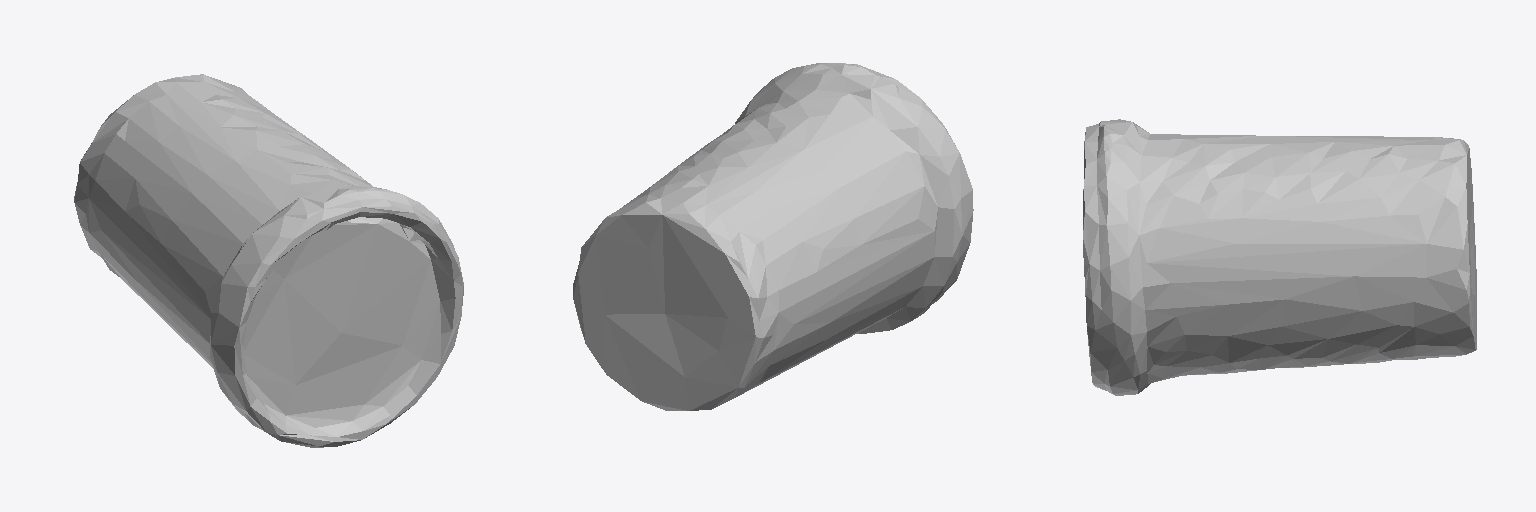
File: cup1.obj
The picture shows the model from 3 angles: view 1: azimuth 30°, elevation 25°; view 2: azimuth 150°, elevation 25°; view 3: azimuth 270°, elevation 25°; orthographic projection.
Parts seen in each view (by area): view 1: BakingVanilla_800_tex.001; view 2: BakingVanilla_800_tex.001; view 3: BakingVanilla_800_tex.001.
Boxes of the visible parts, x1=… form: BakingVanilla_800_tex.001: x1=74, y1=74, x2=463, y2=447; BakingVanilla_800_tex.001: x1=573, y1=63, x2=973, y2=410; BakingVanilla_800_tex.001: x1=1083, y1=119, x2=1476, y2=395.
Bounding box in the file's own units: 0.1593 × 0.1605 × 0.2268.